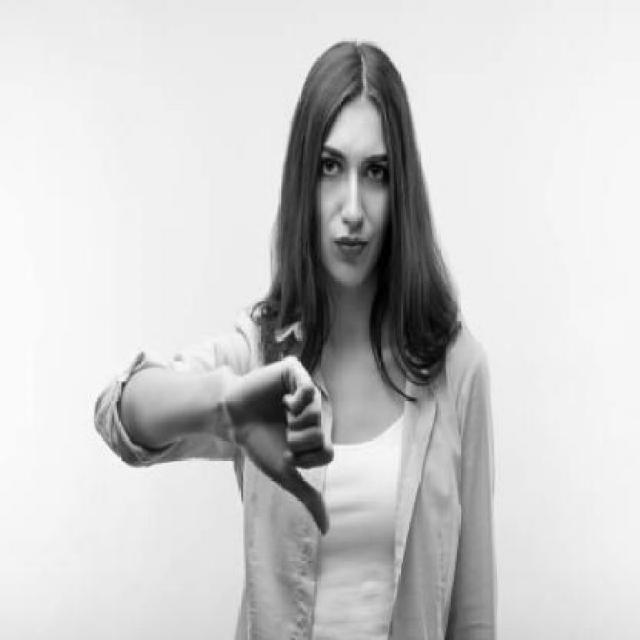angry: (322, 122, 387, 270)
